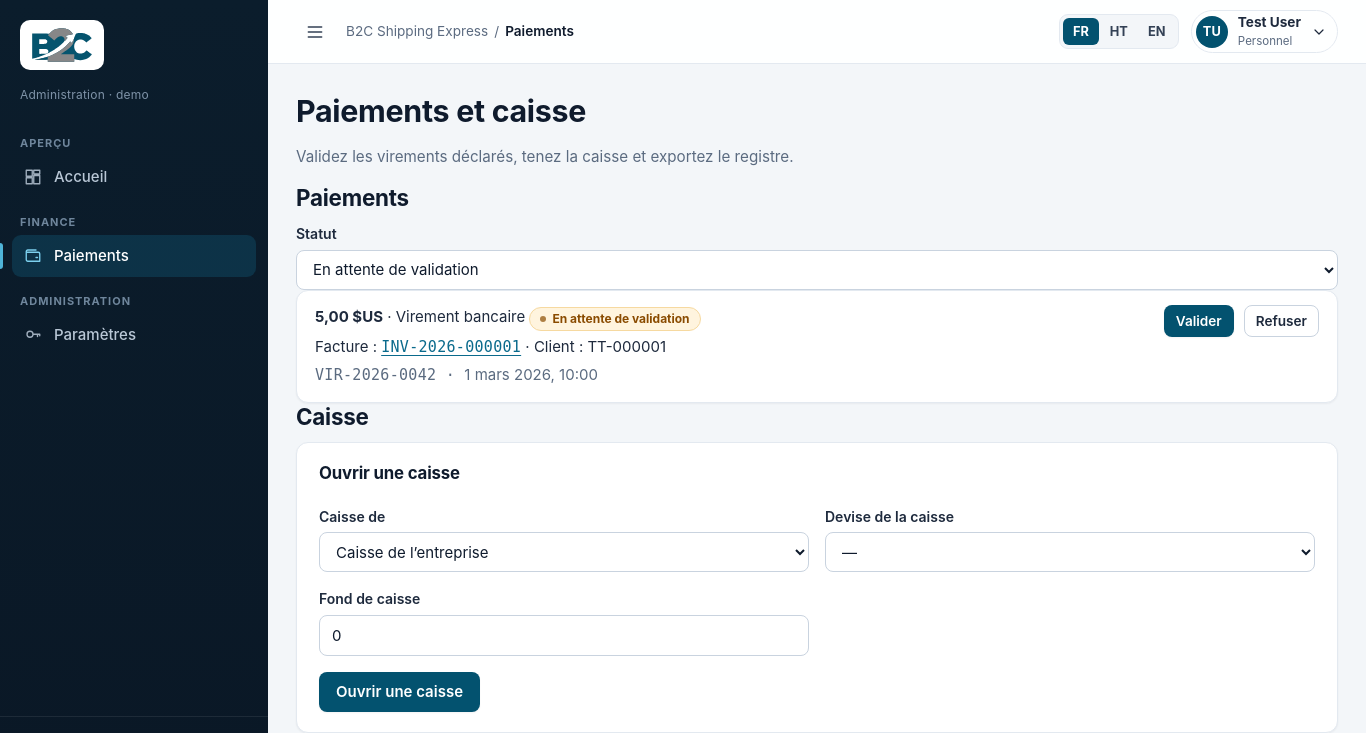
Test: paiements et caisse (personnel) › file des paiements à valider : validation directe
Expected: the list item with test id "queue-payment" shows "INV-2026-000001", [381,338,521,356]
Click the button "Valider": click(1199, 321) [1164,305,1234,337]
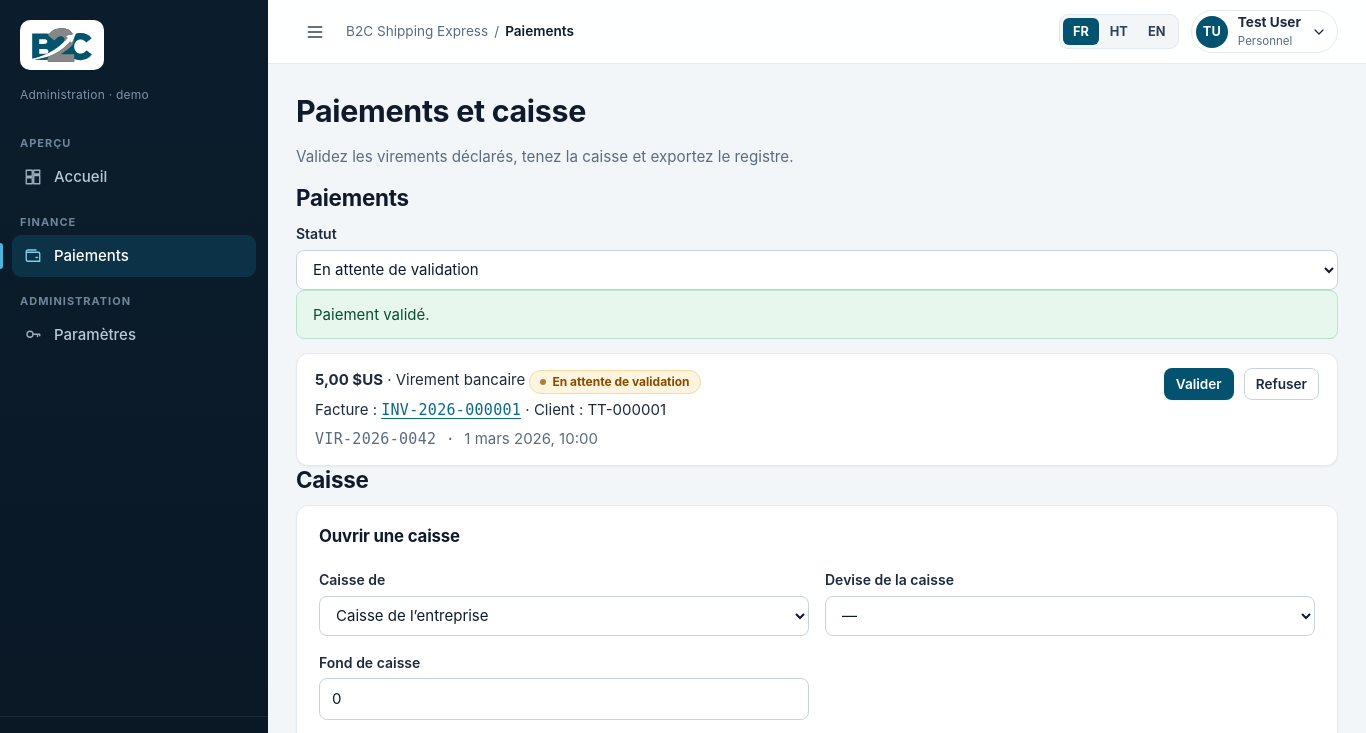
Result: the text "Paiement validé." is shown at [313,303,430,326]
